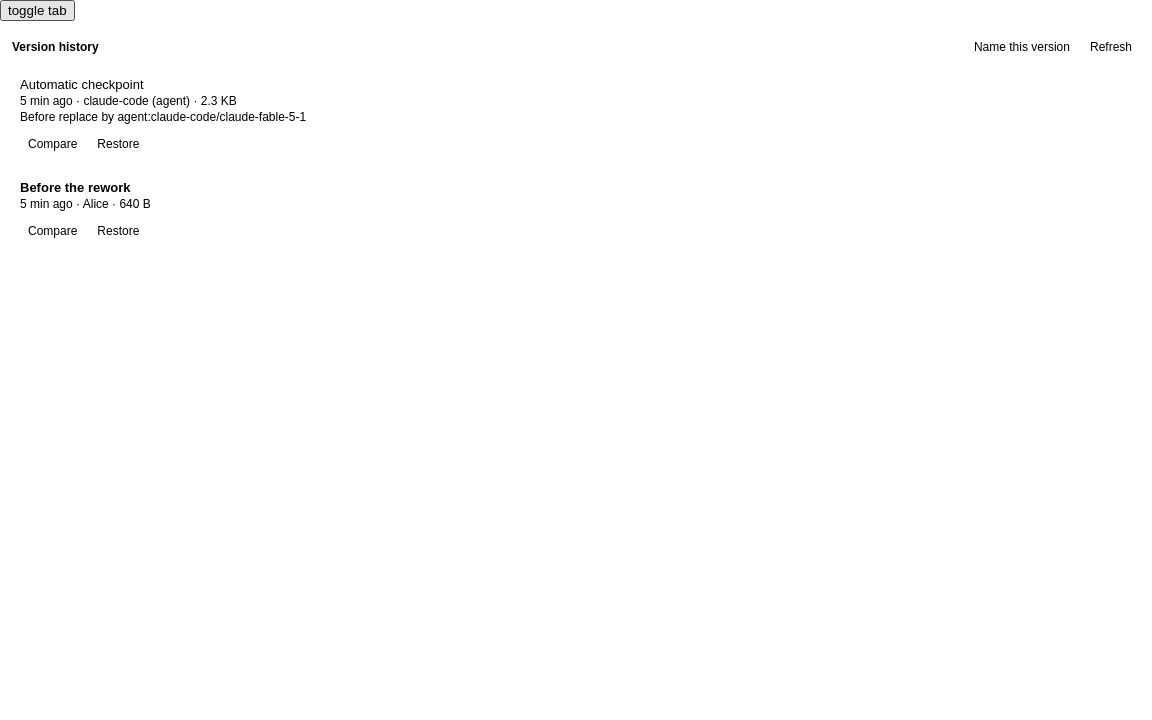
Test: HistoryPanel › asks before restoring, names what happens, and restores only on confirmation
Check: the text "Before the rework" is shown, box [20,180,130,195]
Click the button with aria-label "Restore Before the rework" at (118, 231), box [89,217,147,245]
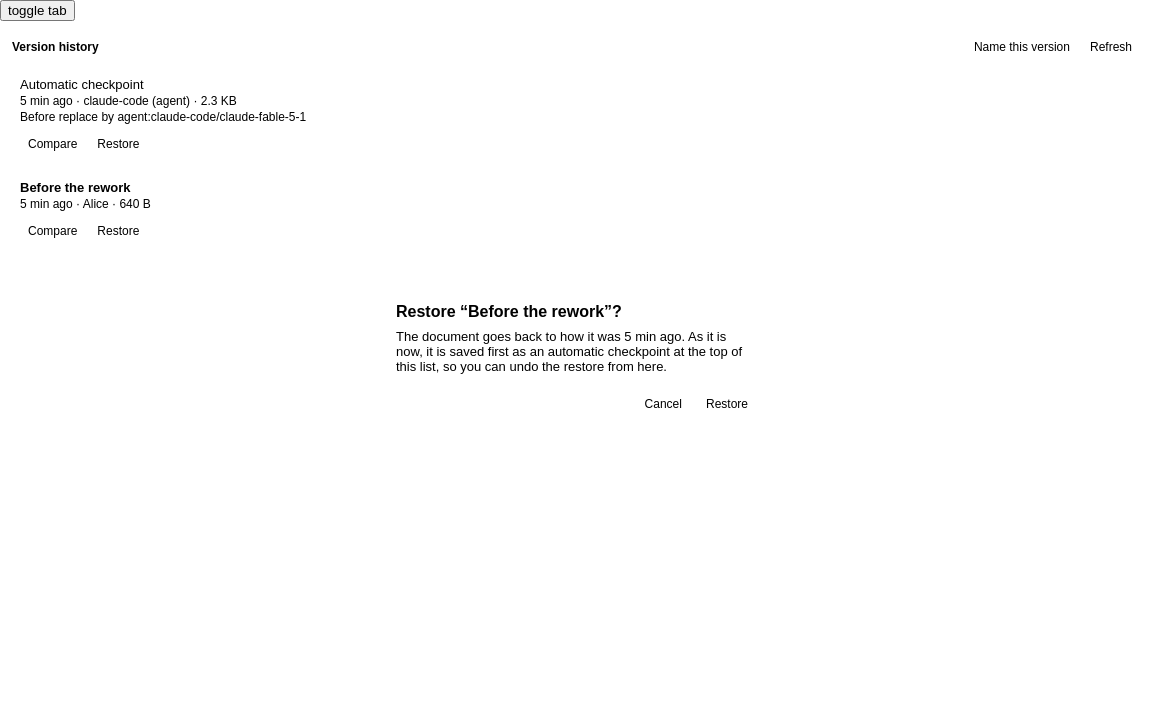
Check: the dialog shows "Before the rework", box [468,302,604,320]
Check: the dialog shows "saved first as an automatic checkpoint", box [396,328,742,374]
Click the button "Cancel" at (663, 404), box [637,390,690,418]
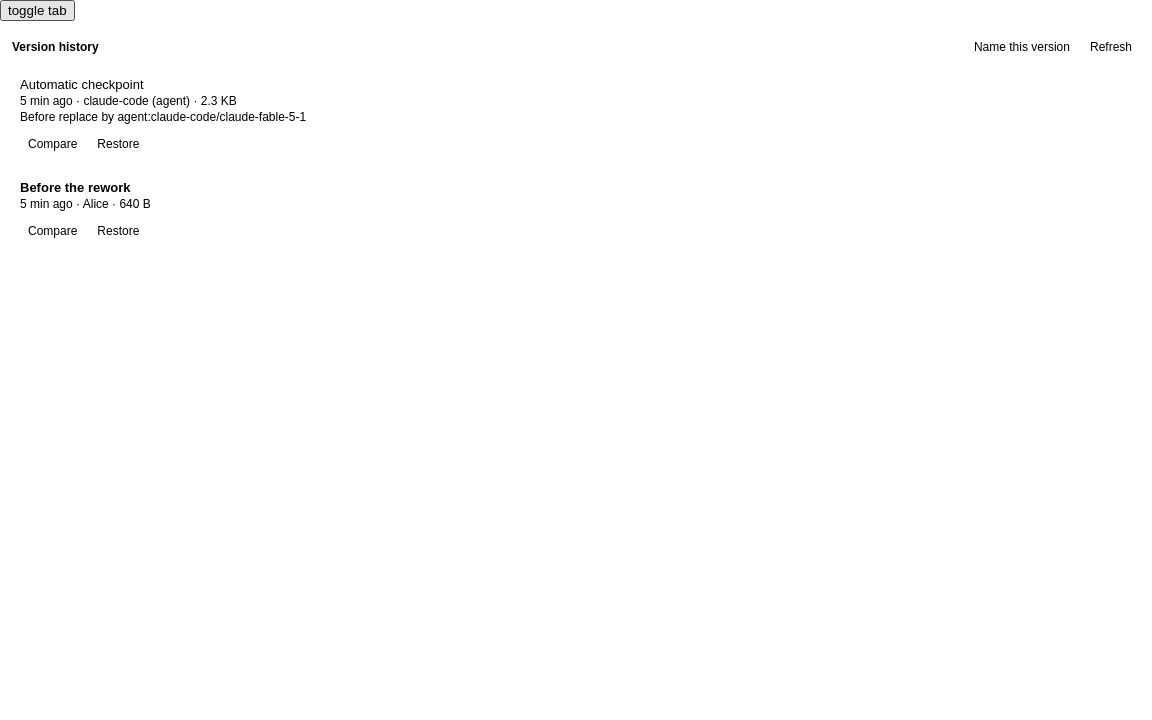
Check: the dialog is gone
Click the button with aria-label "Restore Before the rework" at (118, 231), box [89,217,147,245]
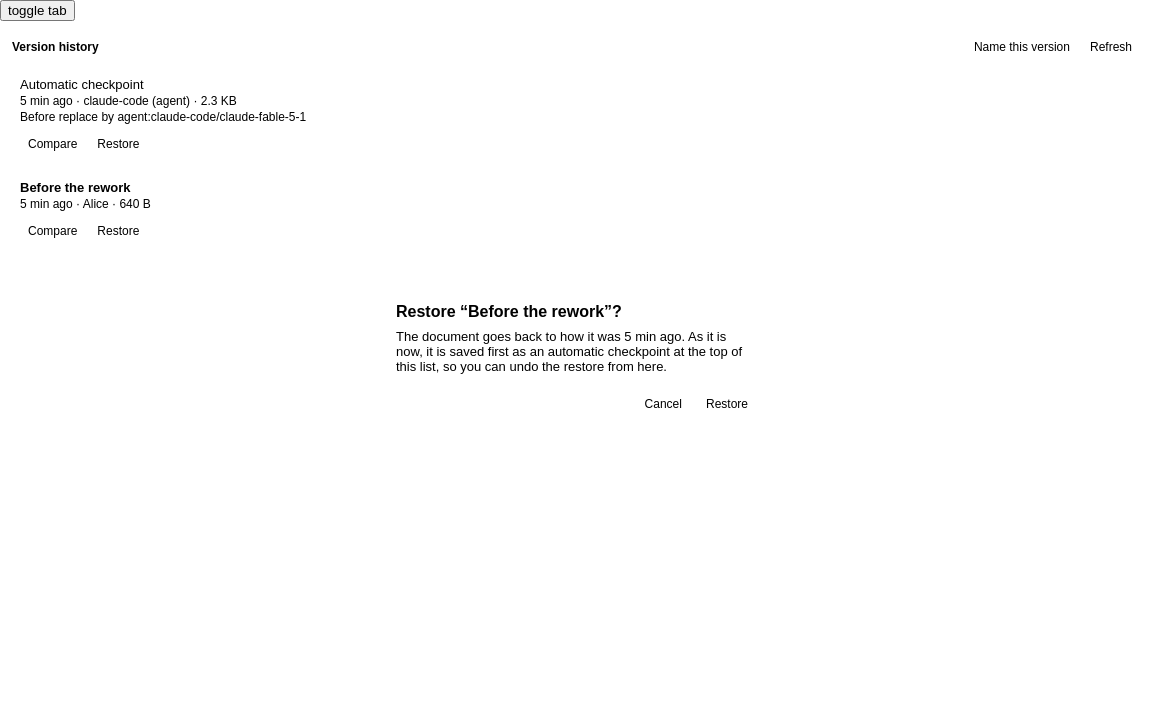
Click the button "Restore" at (727, 404), box [698,390,756,418]
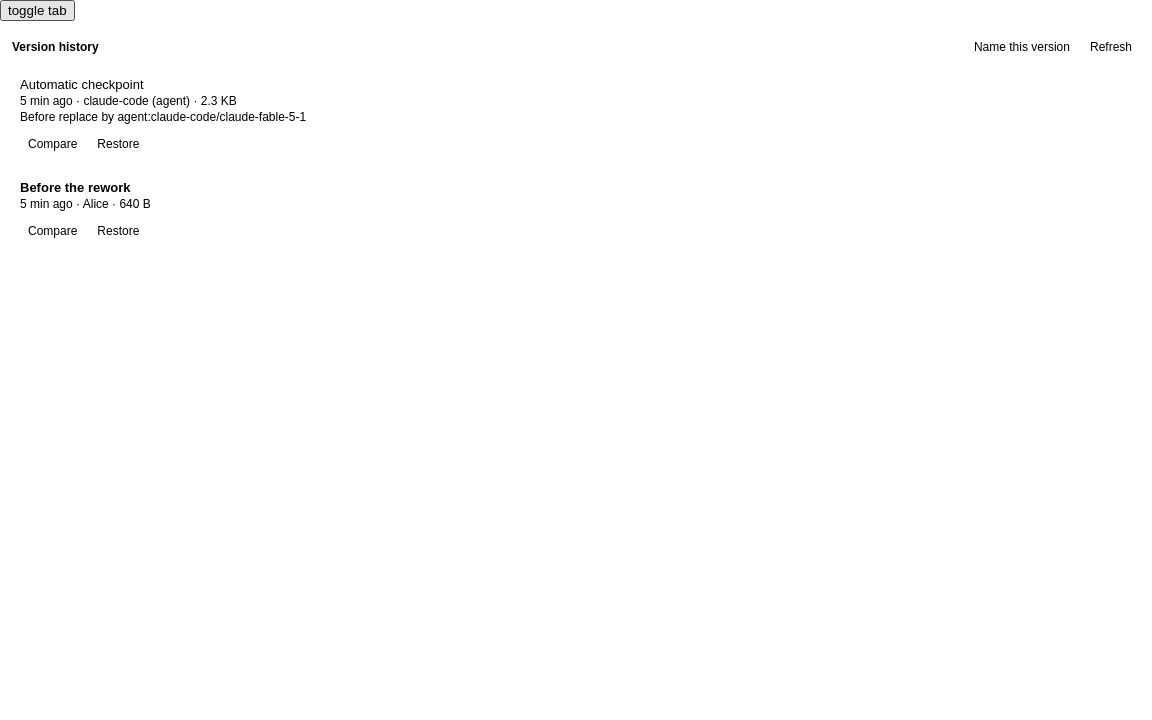
Check: the dialog is gone
